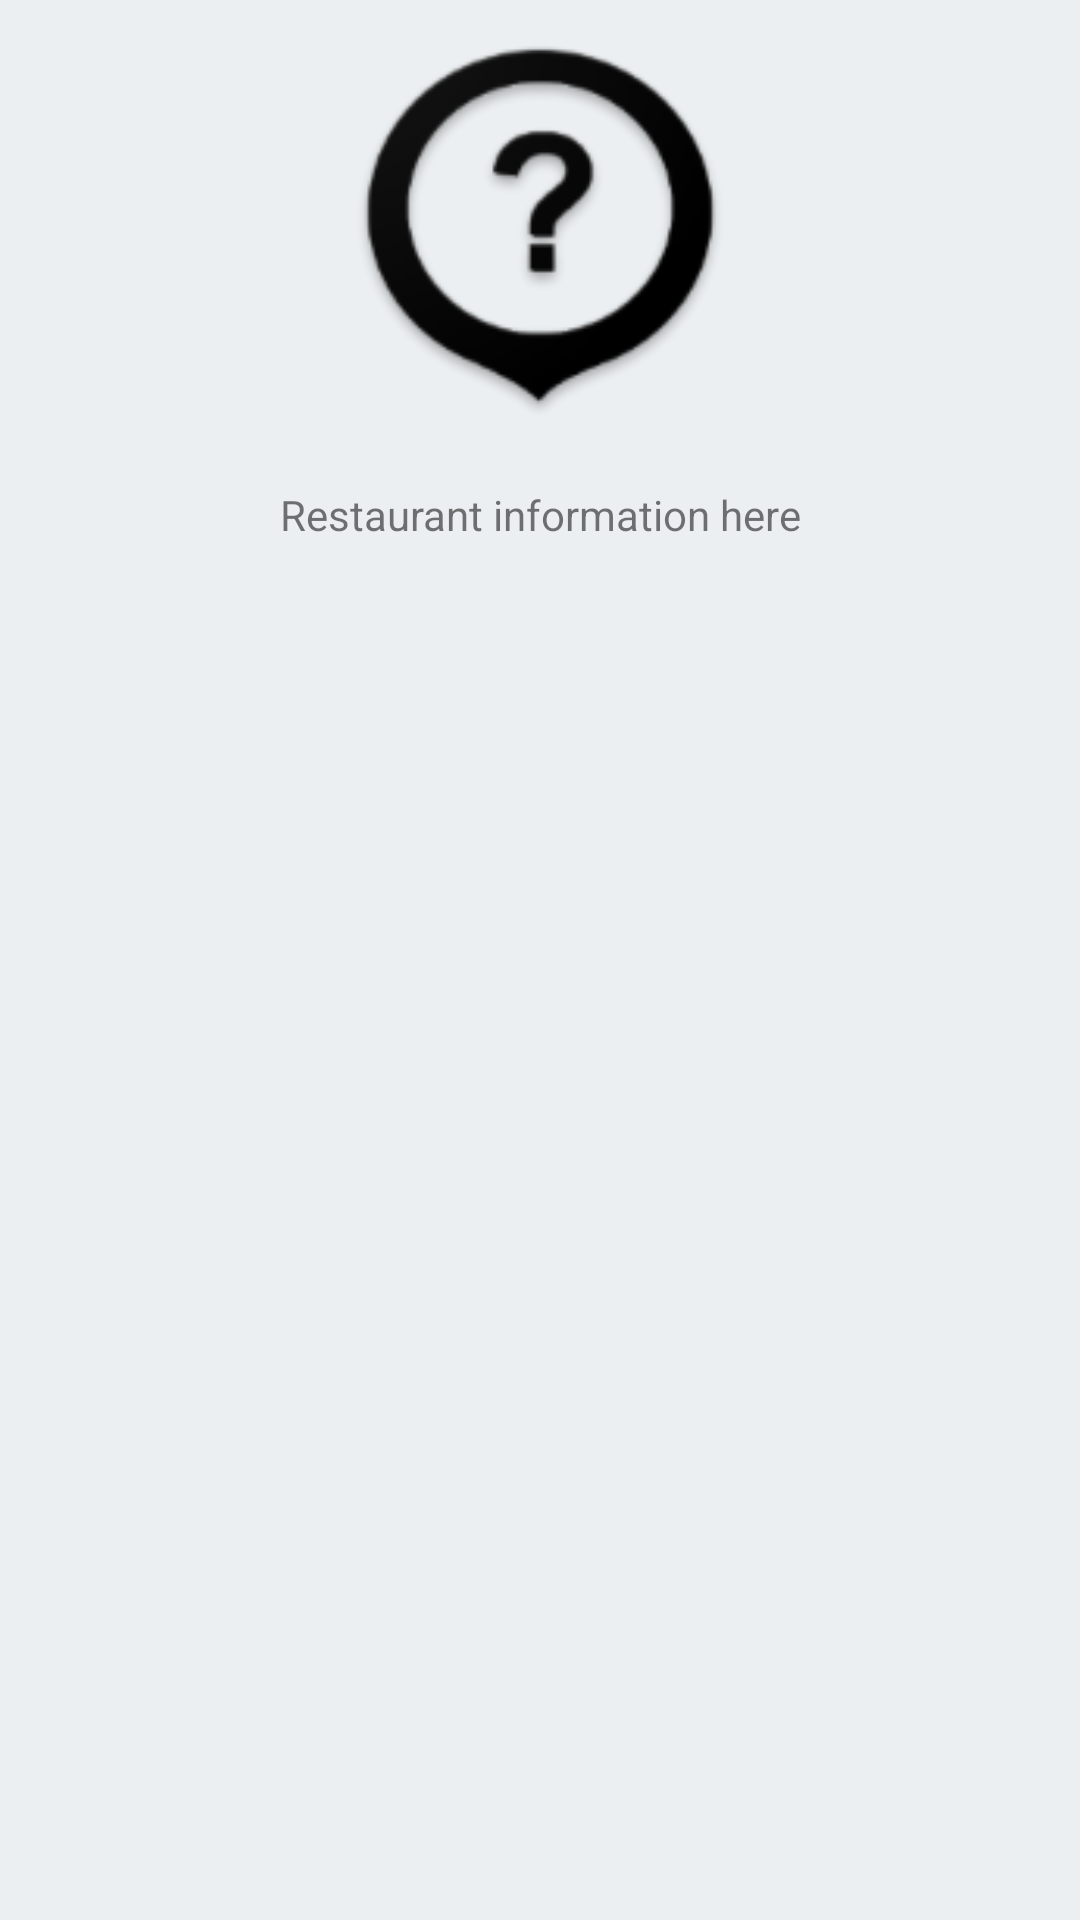

Where icons sit on this 1080*1920 app screen, as (x1, y1, x2, y2):
about: (364, 48, 716, 407)
